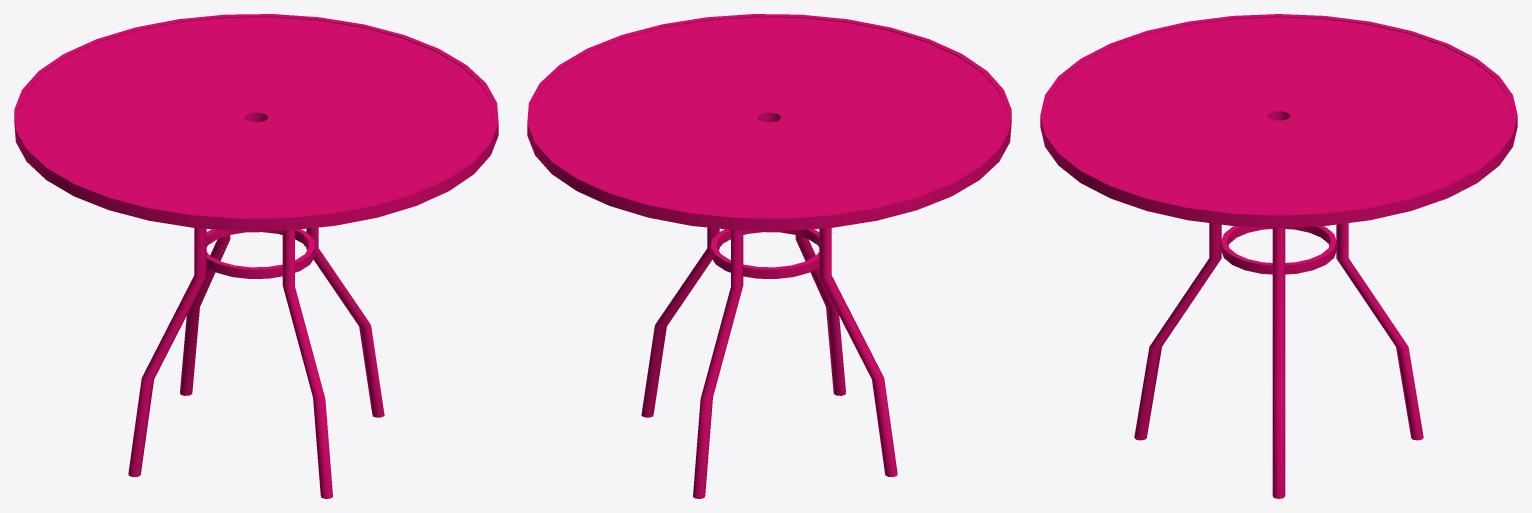
File: Beach_Umbrella_Table_01_Lod0.fbx
The picture shows the model from 3 angles, left to right: view 1: azimuth 30°, elevation 25°; view 2: azimuth 150°, elevation 25°; view 3: azimuth 270°, elevation 25°; orthographic projection.
Parts seen in each view (by area): view 1: Beach_Umbrella_Table_01_Lod0; view 2: Beach_Umbrella_Table_01_Lod0; view 3: Beach_Umbrella_Table_01_Lod0.
Part boxes in pixels (x1,y1,x2,y2): Beach_Umbrella_Table_01_Lod0: [14, 14, 498, 498]; Beach_Umbrella_Table_01_Lod0: [527, 14, 1011, 498]; Beach_Umbrella_Table_01_Lod0: [1040, 14, 1517, 498].
Bounding box in the file's own units: 101 × 75.12 × 101.
